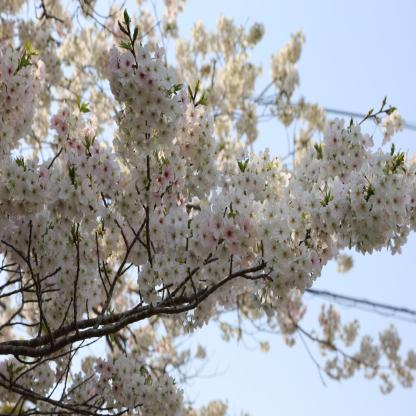OshimaSakura: (1, 1, 415, 412)
